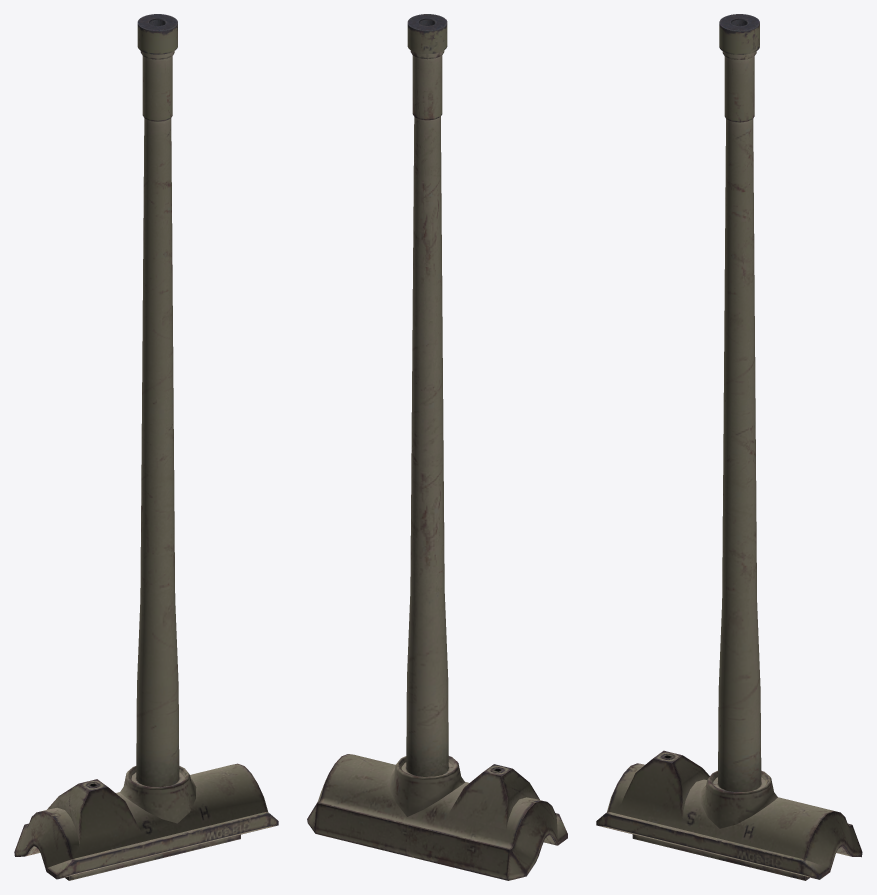
Rendered from Gun_01.glb.
3 views of the same model, side by side, from view 1: azimuth 30°, elevation 25°; view 2: azimuth 150°, elevation 25°; view 3: azimuth 330°, elevation 25° (orthographic).
Visible parts, largest first — view 1: set_0_group_0; view 2: set_0_group_0; view 3: set_0_group_0.
Boxes of the visible parts, x1=… form: set_0_group_0: x1=14, y1=14, x2=278, y2=880; set_0_group_0: x1=307, y1=14, x2=567, y2=880; set_0_group_0: x1=596, y1=14, x2=862, y2=880.
Bounding box in the file's own units: 1.33 × 4.76 × 0.5453.
1 material, 1 textured.
